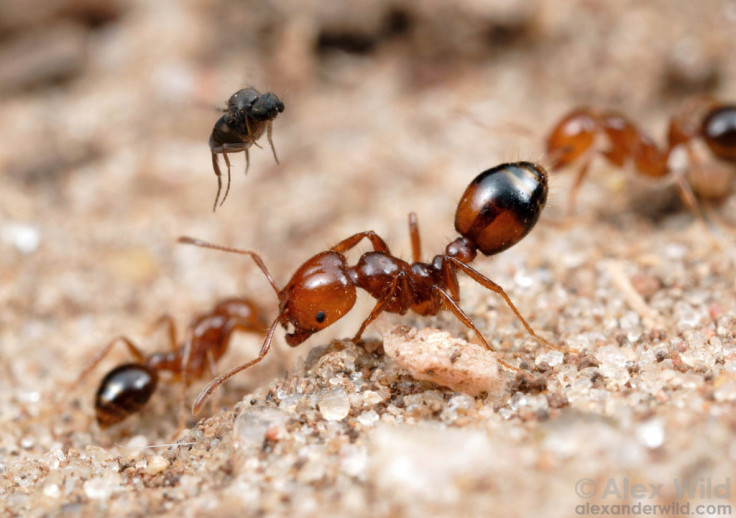phorid fly: (159, 43, 321, 209)
